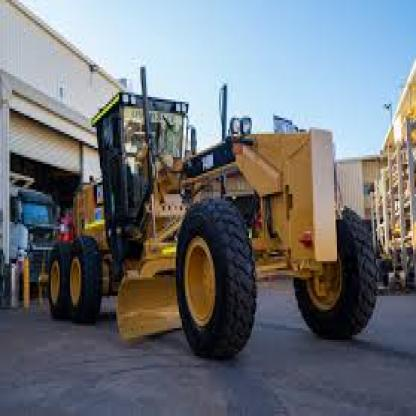bull_dozer/loader/grader: (33, 81, 392, 377)
